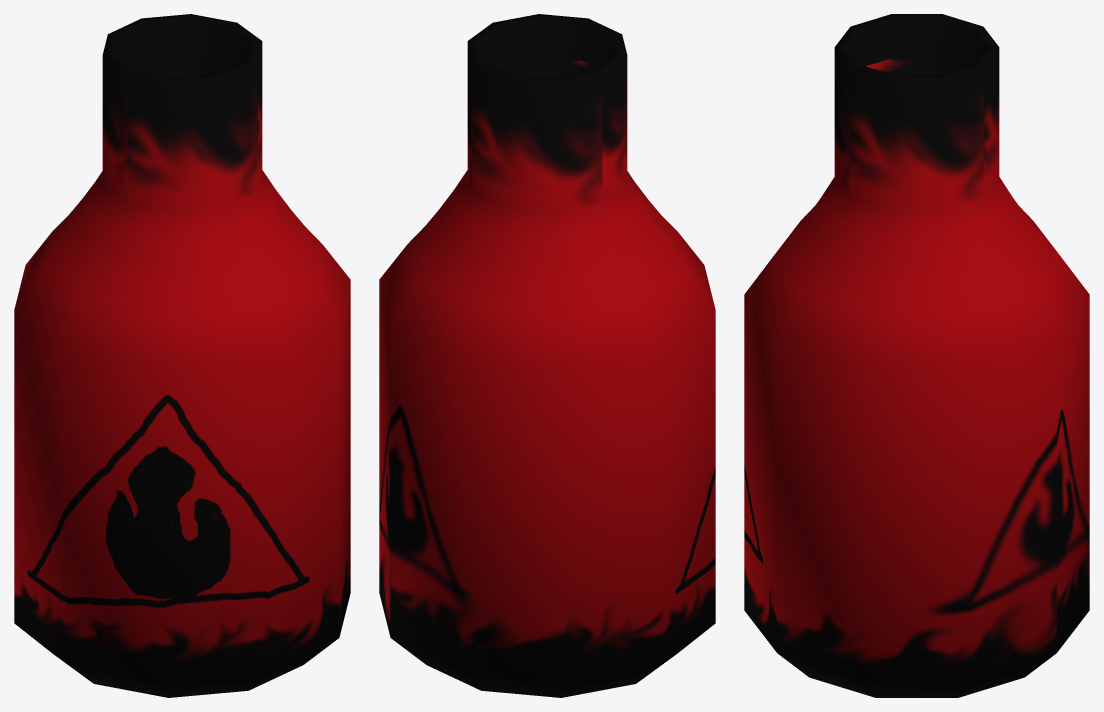
Rendered from Fire Bottle.obj.
The picture shows the model from 3 angles, left to right: view 1: azimuth 30°, elevation 25°; view 2: azimuth 150°, elevation 25°; view 3: azimuth 270°, elevation 25°; orthographic projection.
Visible parts, largest first — view 1: Cylinder; view 2: Cylinder; view 3: Cylinder.
Boxes of the visible parts, <box> form: Cylinder: <box>14,14,350,697</box>; Cylinder: <box>379,14,715,697</box>; Cylinder: <box>744,14,1089,697</box>.
Size of the model in its own units: 4 by 8.02 by 4.2.
